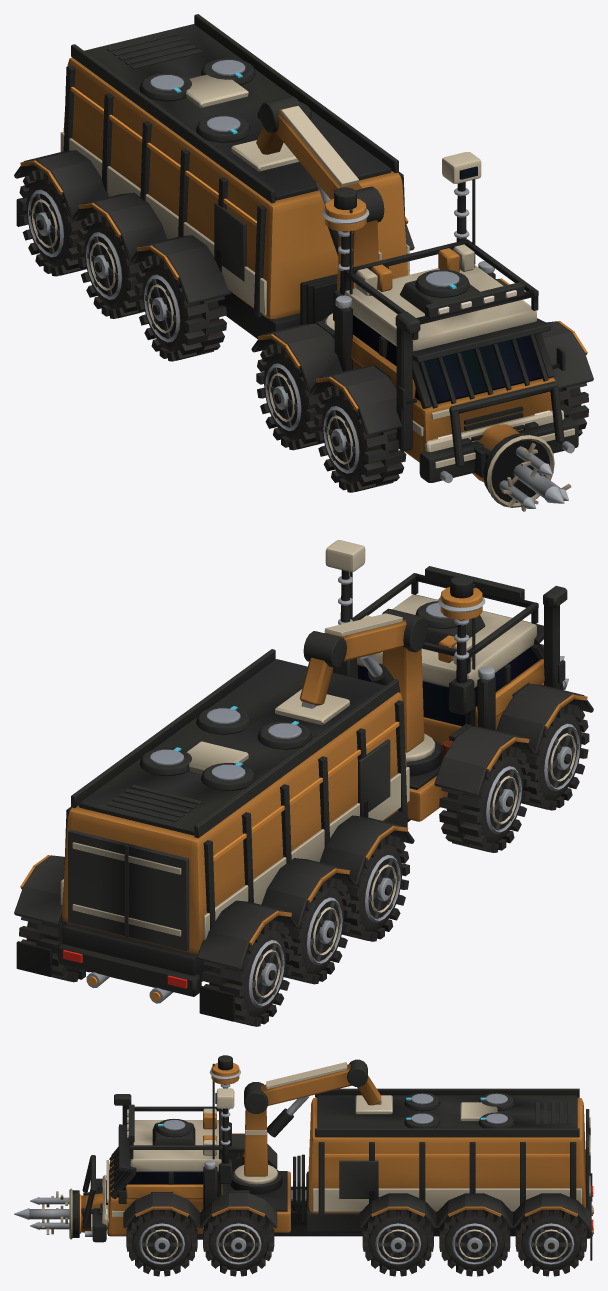
File: ex_rover_10.glb
The picture shows the model from 3 angles, top to bottom: view 1: azimuth 30°, elevation 25°; view 2: azimuth 150°, elevation 25°; view 3: azimuth 270°, elevation 25°; orthographic projection. The views are drawn at different scales.
Visible parts, largest first — view 1: body, wheel_5, wheel_1, drill, wheel_9, wheel_3, wheel_7, wheel_0; view 2: body, wheel_3, wheel_9, wheel_1, wheel_7, wheel_5, wheel_8; view 3: body, wheel_4, wheel_6, wheel_8, wheel_2, wheel_0, drill.
Boxes of the visible parts, box(x1,y1,x2,y2) form: body: box(14, 14, 593, 482); wheel_5: box(135, 254, 226, 361); wheel_1: box(314, 386, 406, 492); drill: box(483, 433, 571, 511); wheel_9: box(18, 169, 86, 276); wheel_3: box(256, 343, 324, 450); wheel_7: box(77, 212, 144, 318); wheel_0: box(559, 382, 588, 436); body: box(14, 540, 593, 1021); wheel_3: box(439, 746, 530, 852); wheel_9: box(201, 920, 293, 1026); wheel_1: box(521, 703, 589, 810); wheel_7: box(283, 877, 351, 984); wheel_5: box(341, 835, 409, 941); wheel_8: box(19, 916, 89, 982); body: box(79, 1055, 593, 1260); wheel_4: box(362, 1210, 433, 1276); wheel_6: box(439, 1210, 510, 1276); wheel_8: box(515, 1210, 586, 1276); wheel_2: box(203, 1210, 274, 1276); wheel_0: box(126, 1210, 197, 1276); drill: box(14, 1188, 79, 1239).
Size of the model in its own units: 6.83 by 7.18 by 22.21.
